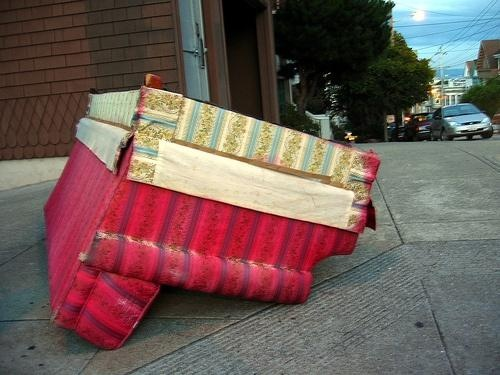car: (432, 103, 496, 144), (404, 114, 435, 143)
sofa: (41, 73, 381, 352)
